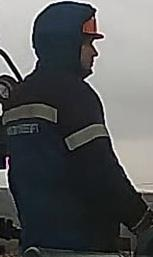helmet: (80, 11, 105, 42)
vest: (0, 78, 131, 254)
